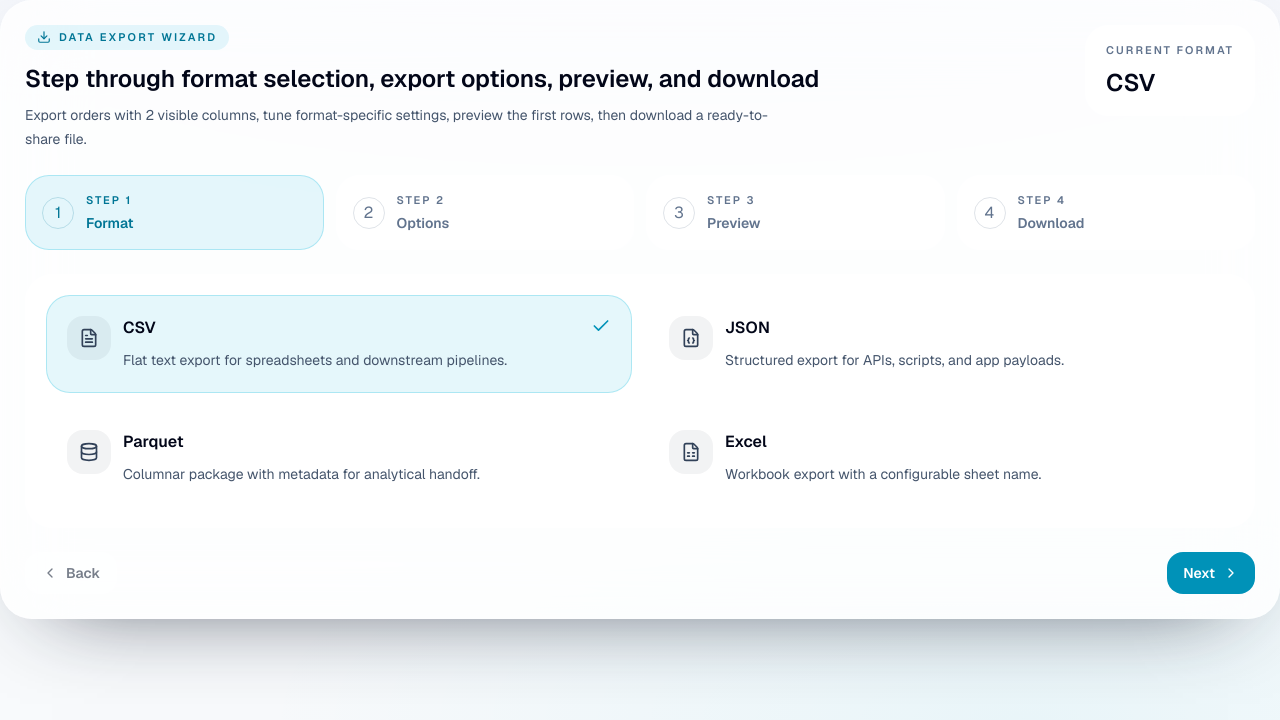
Test: DataExportWizard › moves through the wizard and loads a preview
The width and height of the screenshot is (1280, 720).
Click the button "Next": (1211, 573) [1167,552,1255,594]
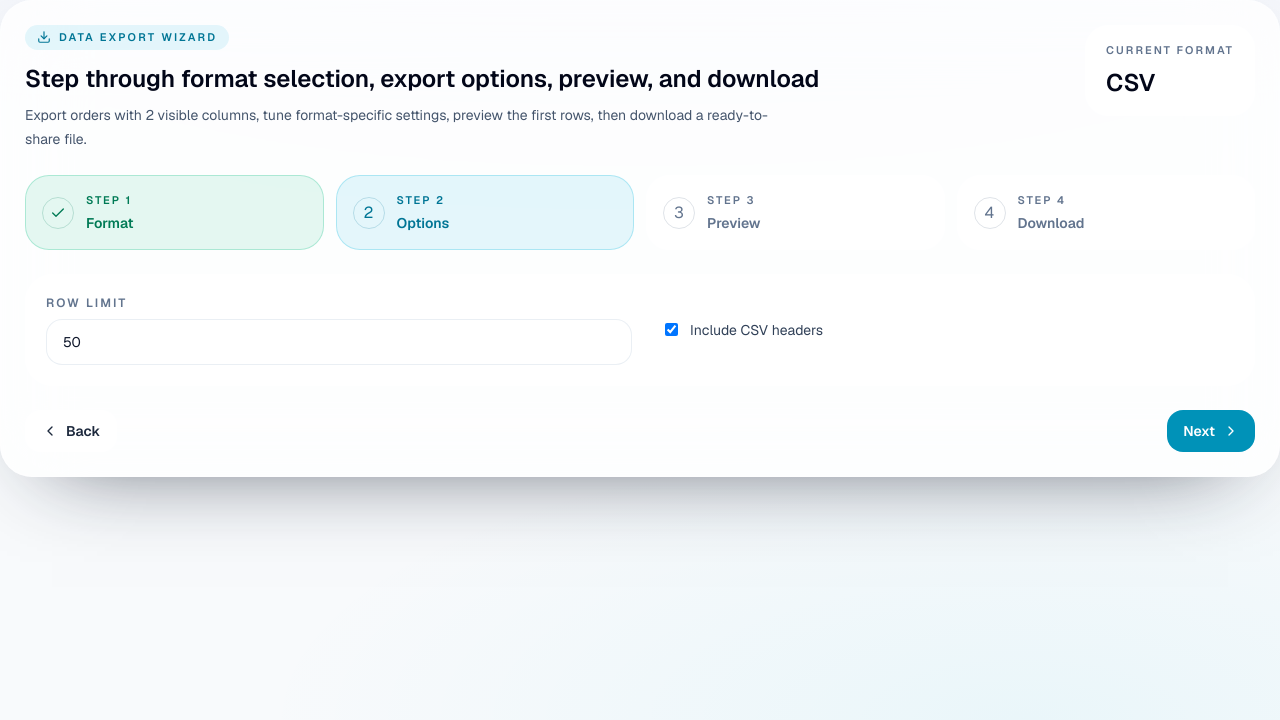
Result: the number field labelled "Row limit" is shown at [46,319,632,365]
Click the button "Next": (1211, 431) [1167,410,1255,452]
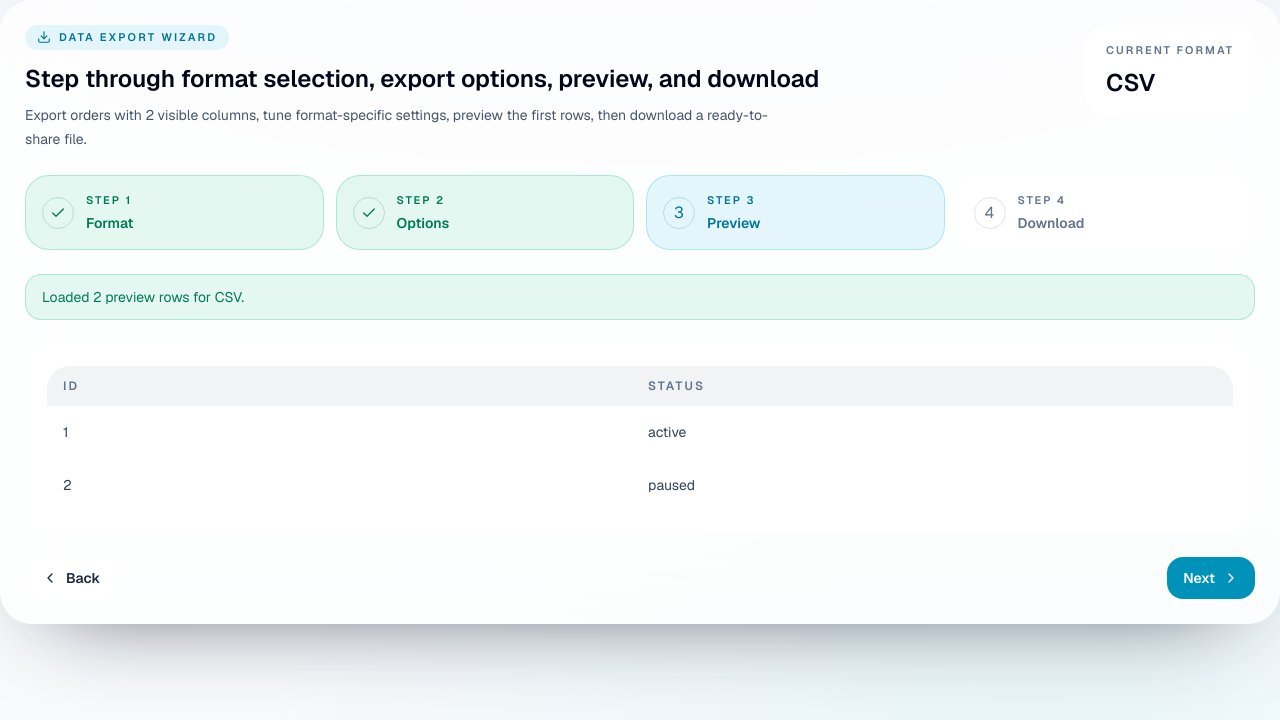
Result: the text "active" is shown at [648,423,686,441]
Result: the text "Loaded 2 preview rows for CSV." is shown at [25,274,1255,320]
